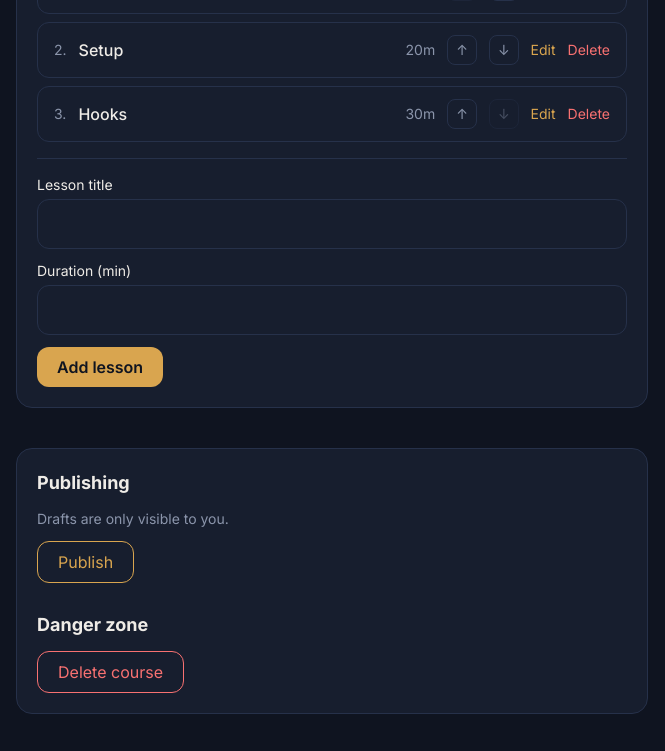
Test: CourseForm — lesson editor › blocks adding a lesson with an empty title
This screenshot has width=665, height=751.
(page scrolled)
Click the button "Add lesson".
click(100, 367)  # box 37,347 -> 163,387
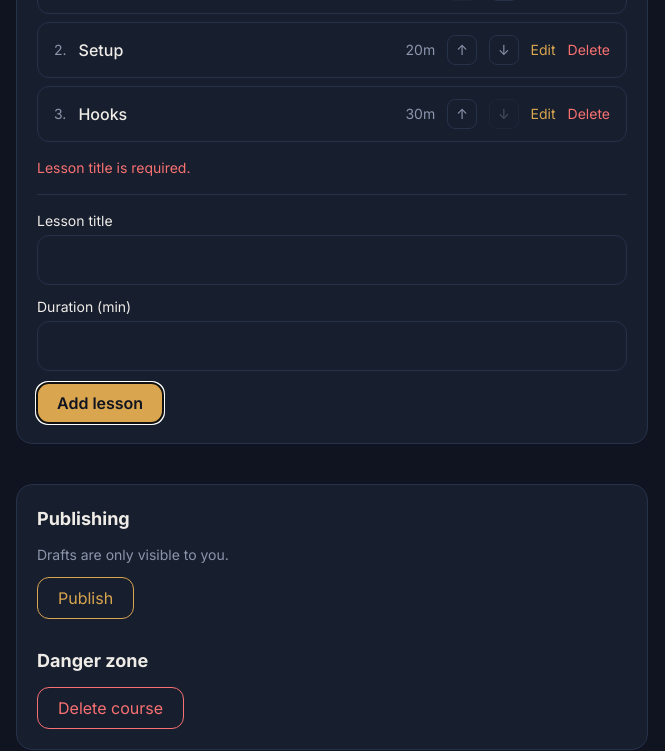
Check: the text "Lesson title is required." is shown, box 37,159 -> 190,176
